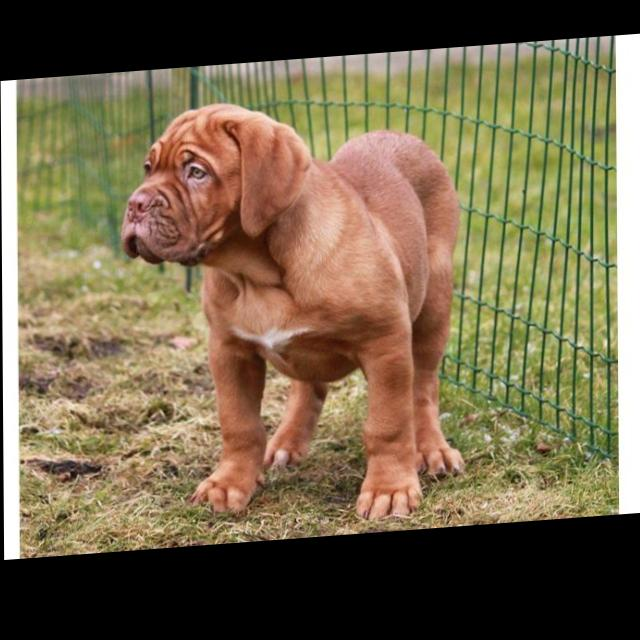dogue_de_bordeaux: (119, 90, 467, 542)
